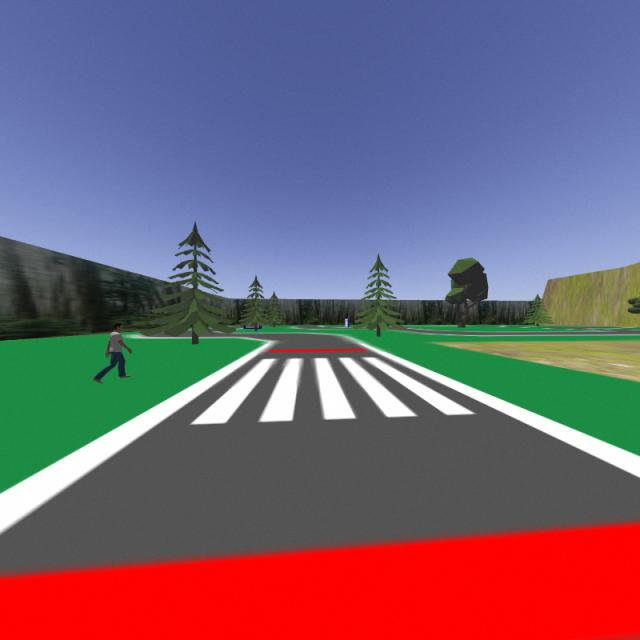pedestrian: (89, 320, 135, 386)
